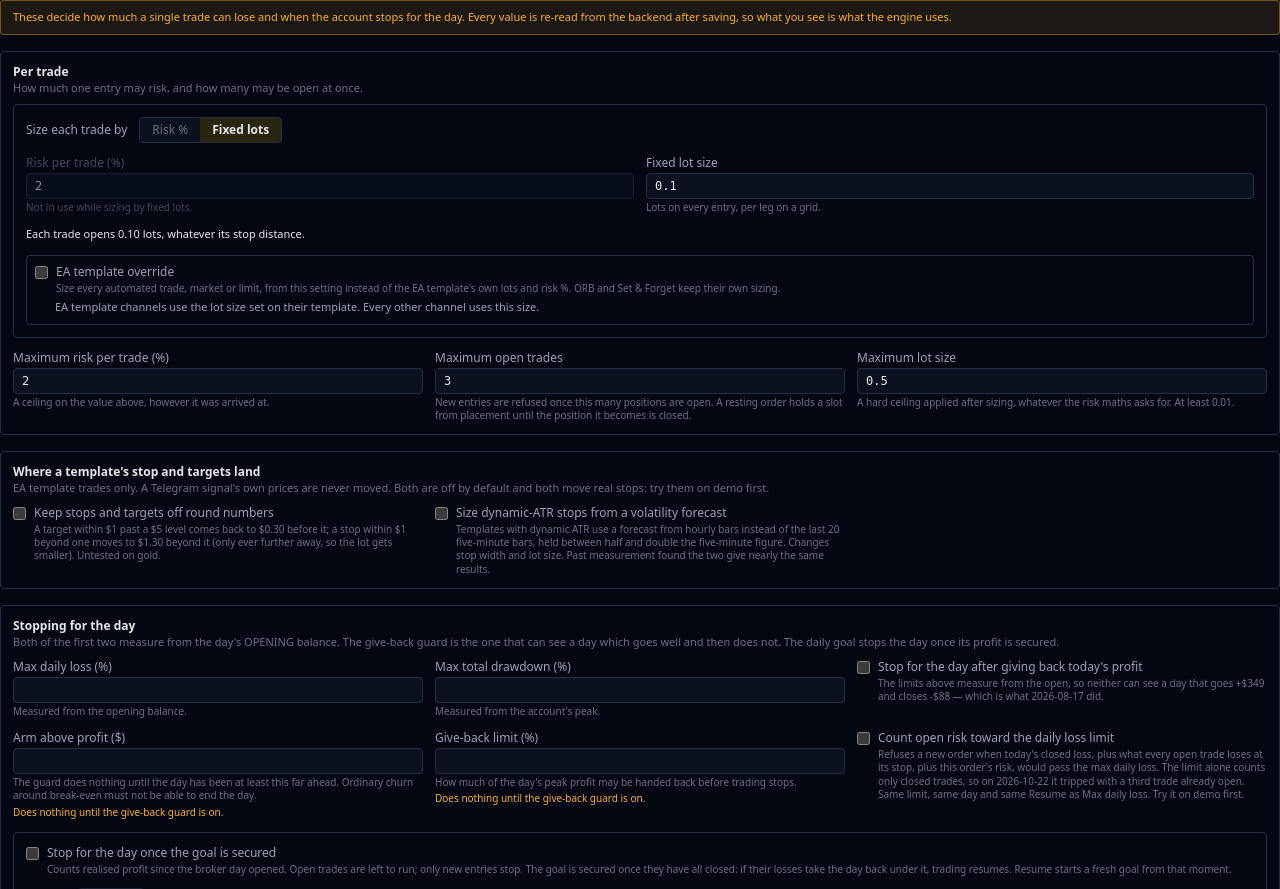
Test: one or the other › choosing Risk % stores no fixed lot and keeps the old one for later
Click the radio button labelled "Risk %" at (170, 130), box [140, 118, 200, 142]
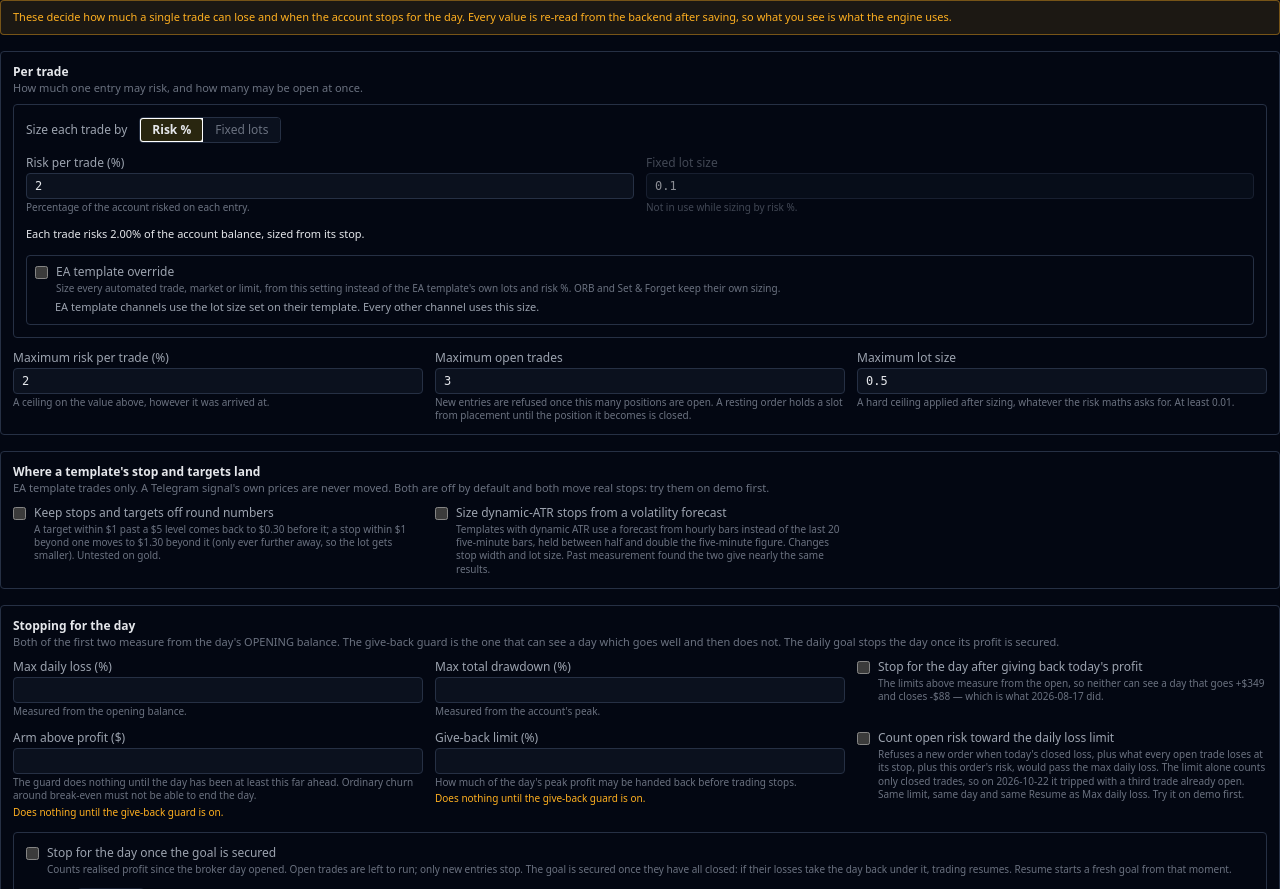
Expected: the field labelled "Fixed lot size" holds "0.1", [646, 173, 1254, 199]
Now the field labelled "Fixed lot size" is disabled, box [646, 173, 1254, 199]
